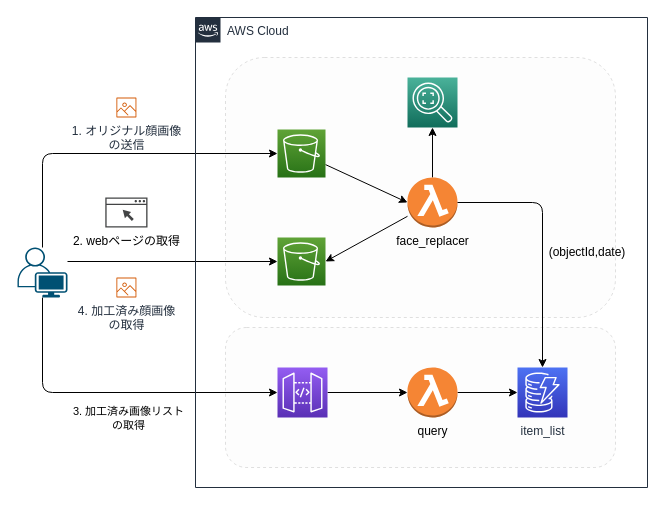
Some shapes in this 665 by 505 pixel diagram are drawn without their labels. Here are the shapes that lost their labels. From the top down, the box of each, then its label:
(406, 76, 458, 128): Rekognition
(276, 128, 326, 178): original_bucket
(276, 236, 326, 286): webhost_bucket
(276, 366, 328, 418): search
